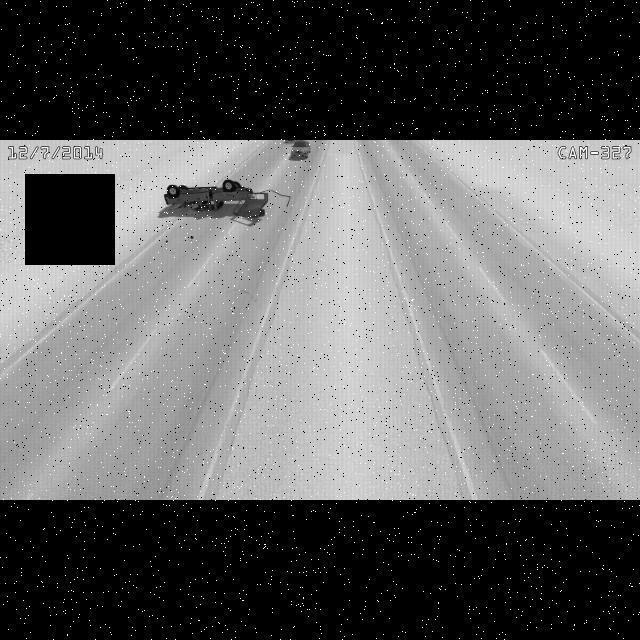accident: (162, 178, 273, 223)
vehicle: (279, 139, 319, 163)
